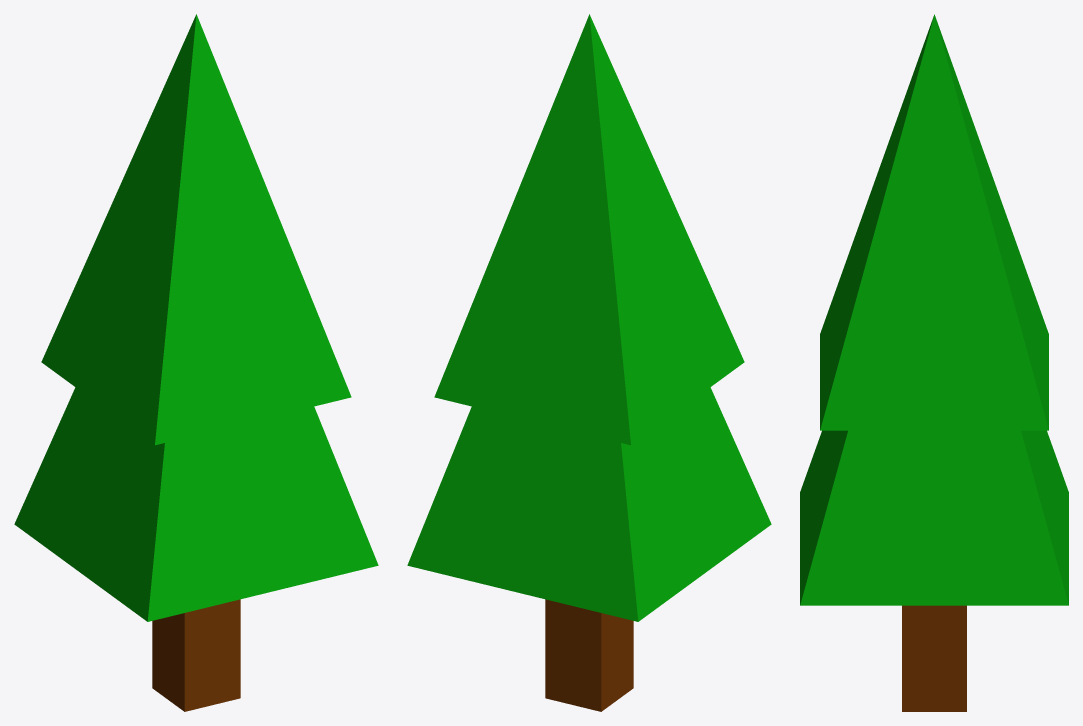
The model's file is Tree_1.fbx.
3 renders of one model, left to right at view 1: azimuth 30°, elevation 25°; view 2: azimuth 150°, elevation 25°; view 3: azimuth 270°, elevation 25°, orthographic.
Visible parts, largest first — view 1: Tree_1; view 2: Tree_1; view 3: Tree_1.
Boxes of the visible parts, bbox=[...] form: Tree_1: bbox=[14, 14, 378, 711]; Tree_1: bbox=[407, 14, 771, 711]; Tree_1: bbox=[800, 14, 1068, 711].
Size of the model in its own units: 1.42 by 1.42 by 3.99.
